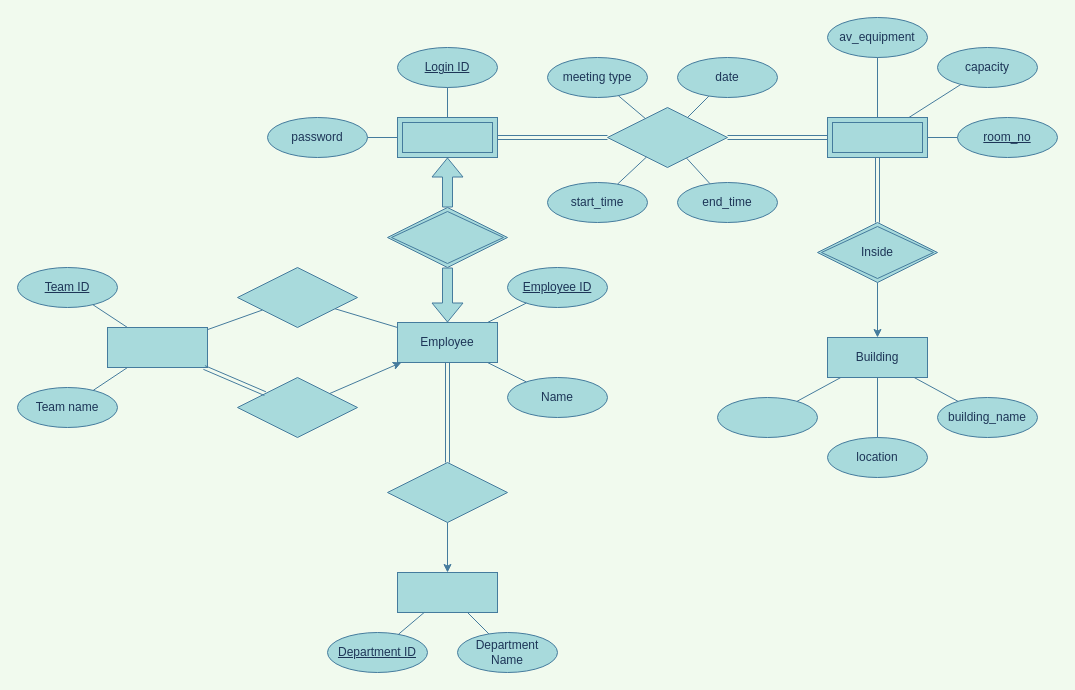
Some shapes in this 1075 by 690 pixel diagram are drawn without their labels. The centre of each missing label's shape, as x and y in pixels:
"building_no" goes at pixel 767 417.
"Department" goes at pixel 447 592.
"Has" goes at pixel 447 237.
"Leads" goes at pixel 297 407.
"Login" goes at pixel 447 137.
"Member of" goes at pixel 297 297.
"Reserves" goes at pixel 667 137.
"Room" goes at pixel 877 137.
"Team" goes at pixel 157 347.
"Works In" goes at pixel 447 492.
